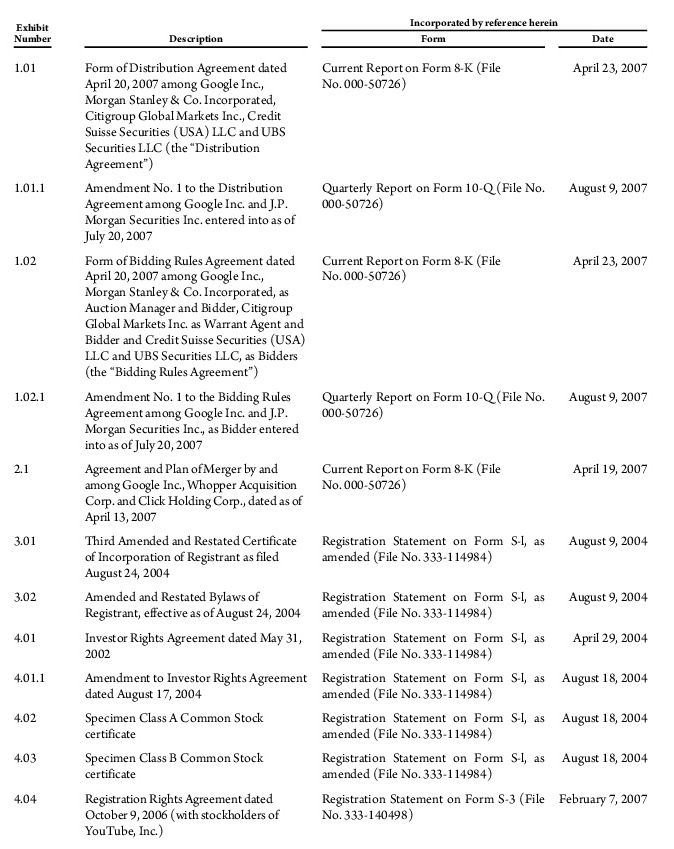table: (0, 0, 674, 849)
